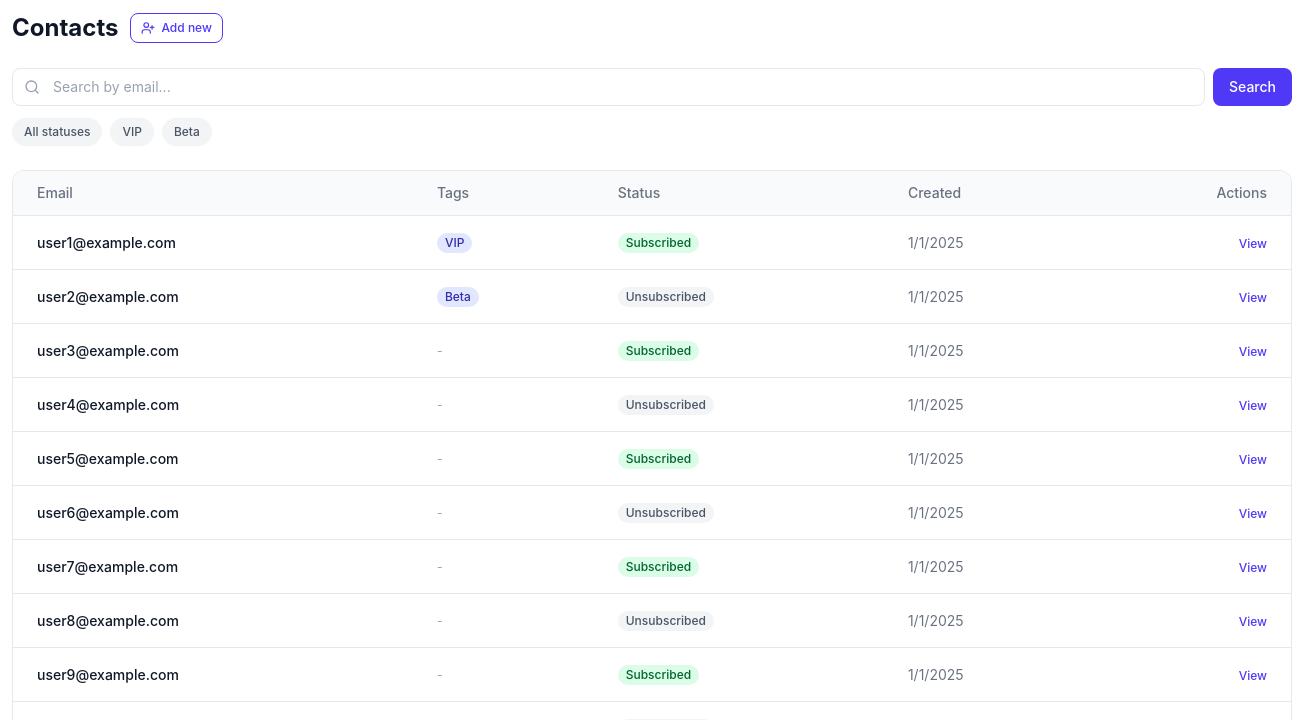
Scenario: Contacts › filters contacts by tag
The width and height of the screenshot is (1304, 720).
expect the text "user1@example.com" is shown: met, box top-left (13, 216), bottom-right (413, 270)
What coordinates should you click on to do the following:
click the button "VIP"
I would click on:
 (132, 132)
Its box is top-left (110, 118), bottom-right (154, 146).
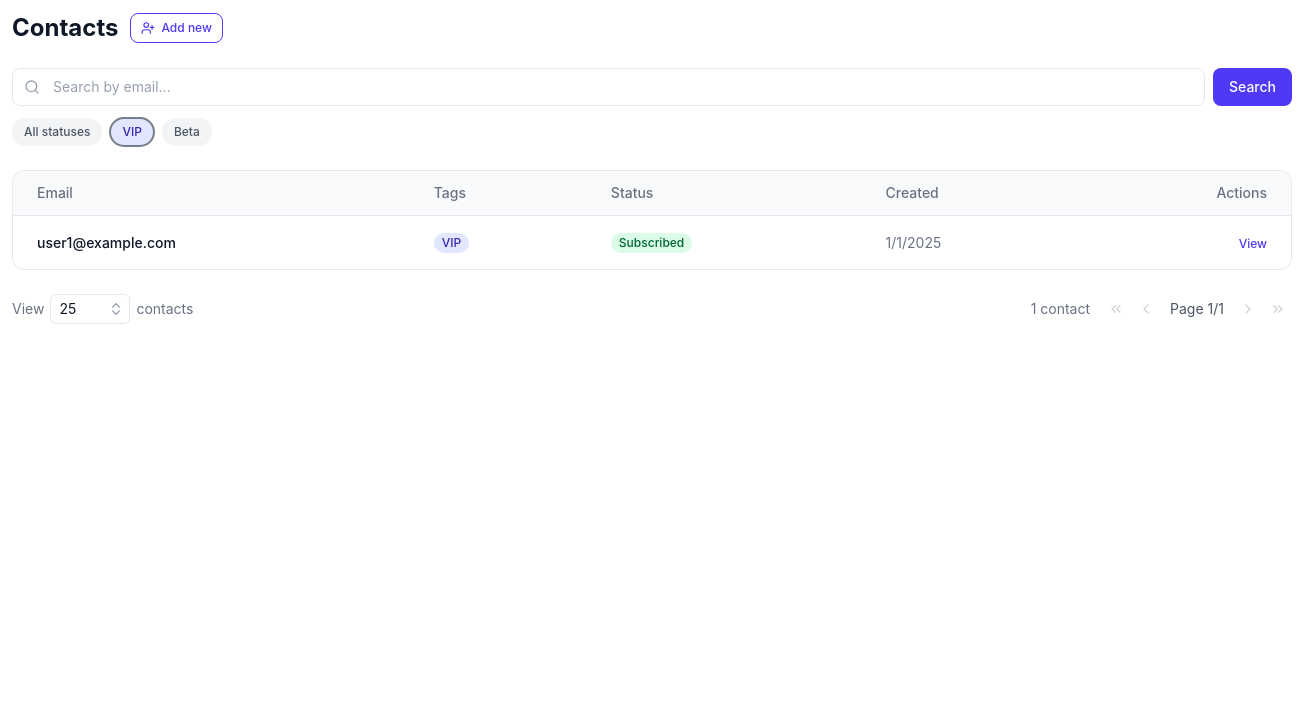
expect the text "user1@example.com" is shown: met, box top-left (13, 216), bottom-right (410, 269)
expect the text "user2@example.com" is gone: met
